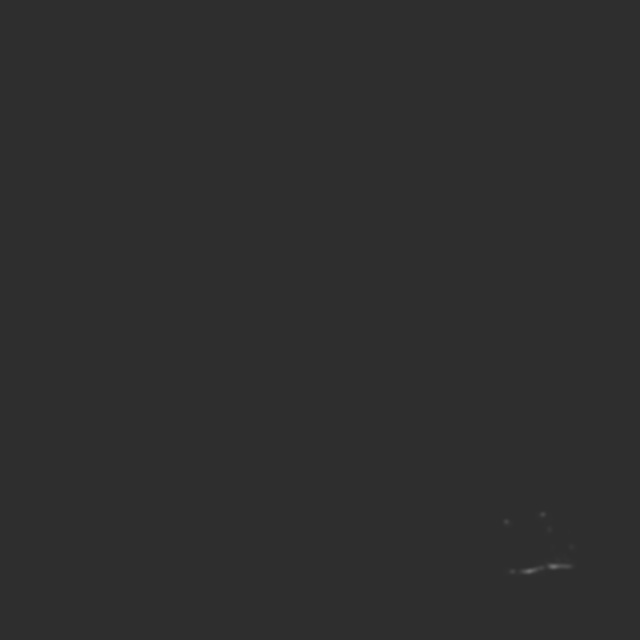satellite: (494, 491, 570, 585)
